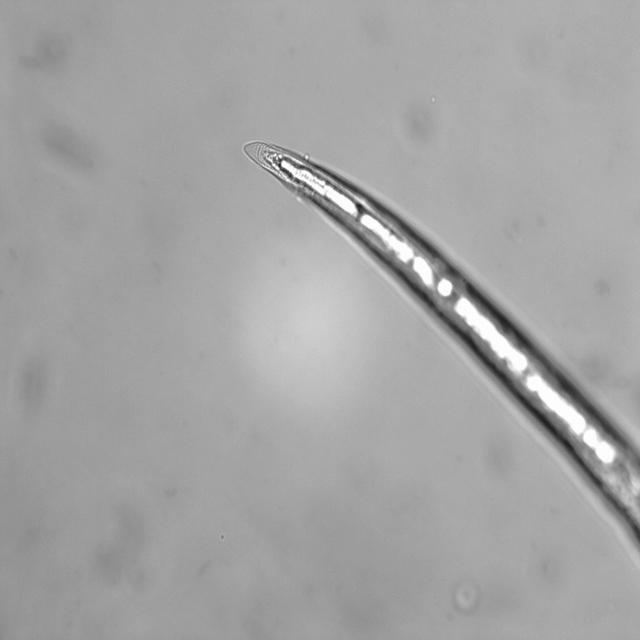Pratylenchus: (234, 123, 376, 240)
